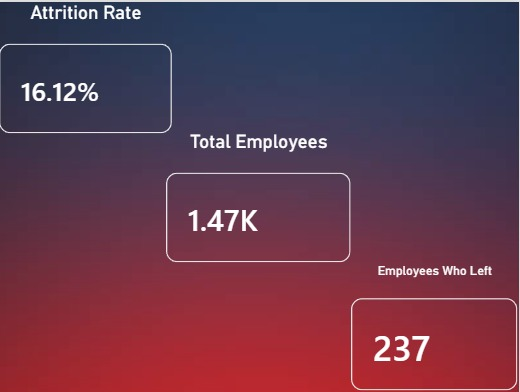

The dashboard page shown, as its layout file describes it:
{"tool":"powerbi","page":{"name":"HR tooltip","canvas":[400,300],"ordinal":2},"visuals":[{"type":"cardVisual","title":"Attrition Rate","fields":{"Data":["HR_Analytics.Attritionrate"]},"box":[0,0,133.6,101.8],"z":0},{"type":"cardVisual","title":"Total Employees","fields":{"Data":["CountNonNull(HR_Analytics.EmployeeCount)"]},"box":[128.4,98.9,142.7,101.8],"z":1},{"type":"cardVisual","title":"Employees Who Left","fields":{"Data":["Sum(HR_Analytics.Attrition_count)"]},"box":[271.1,200.5,128.9,98.4],"z":2}]}

Visuals, with their boxes in screenshot pixels (x1, y1, x2, y2), scaled from the page's 400x300 canvas onto the 520x392 screenshot:
"Attrition Rate" cardVisual: (0,0,174,133)
"Total Employees" cardVisual: (167,129,352,262)
"Employees Who Left" cardVisual: (352,262,519,391)
